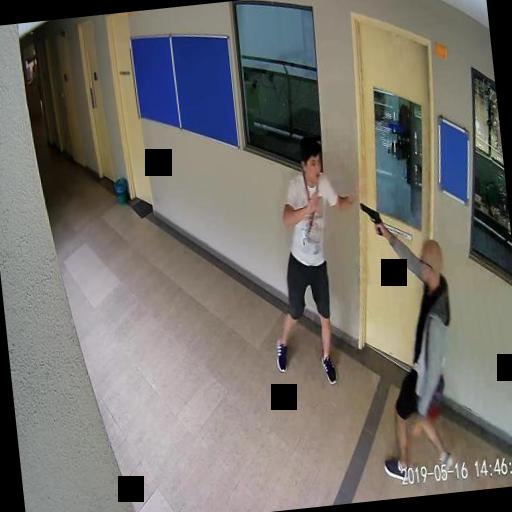Handgun: (359, 200, 381, 235)
